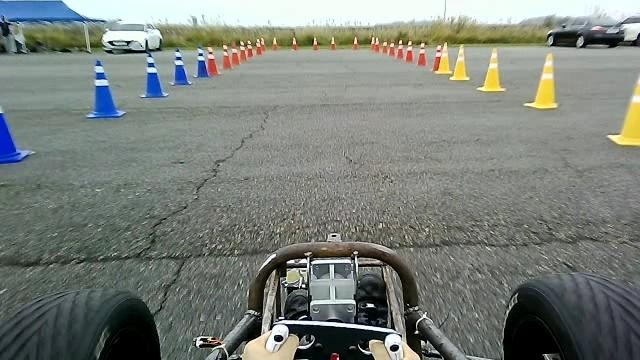blue cone: (85, 58, 126, 118), (139, 51, 169, 98), (169, 47, 193, 86), (192, 45, 211, 78)
red cone: (206, 46, 221, 75)
yellow cone: (606, 74, 639, 146), (523, 52, 559, 109), (478, 48, 508, 92), (448, 43, 470, 80), (439, 41, 453, 73)
